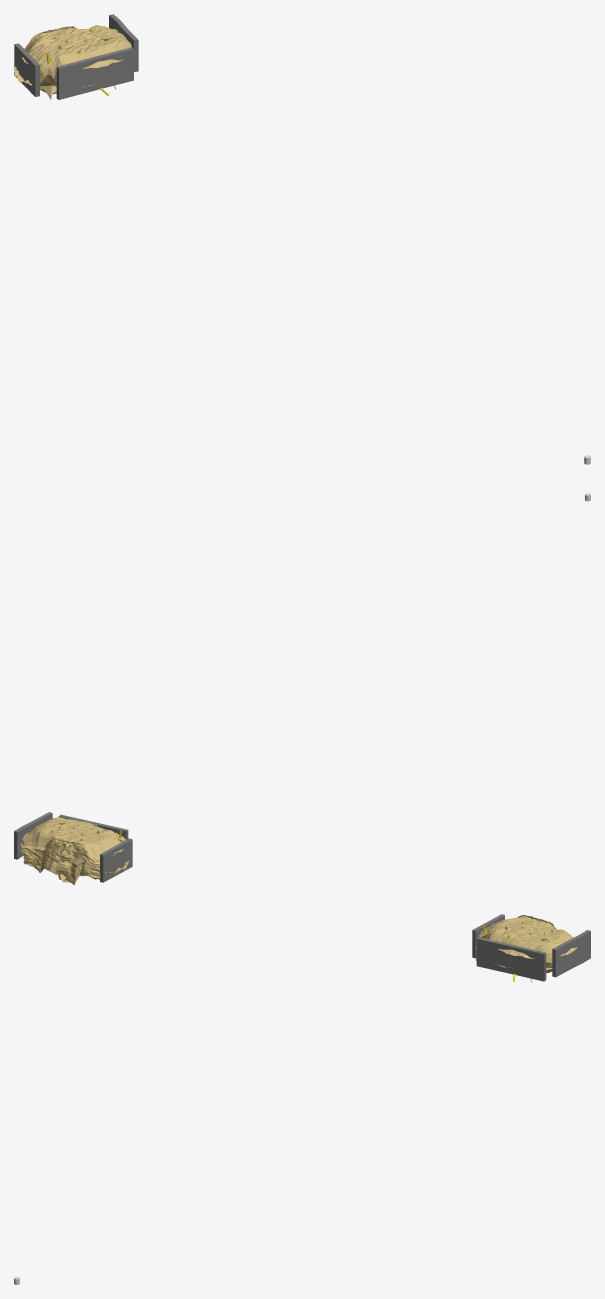
Rendered from cave.fbx.
3 renders of one model, top to bottom at view 1: azimuth 30°, elevation 25°; view 2: azimuth 150°, elevation 25°; view 3: azimuth 330°, elevation 25°, orthographic. The views are drawn at different scales.
Parts seen in each view (by area): view 1: CaveMetal, CaveRock; view 2: CaveRock, CaveMetal; view 3: CaveMetal, CaveRock.
Part boxes in pixels (x1,y1,x2,y2): CaveMetal: (14, 14, 138, 99); CaveRock: (14, 25, 131, 99); CaveRock: (20, 817, 129, 885); CaveMetal: (14, 812, 132, 882); CaveMetal: (472, 914, 590, 981); CaveRock: (475, 915, 577, 973).
Bounding box in the file's own units: 692 × 281 × 6168.
